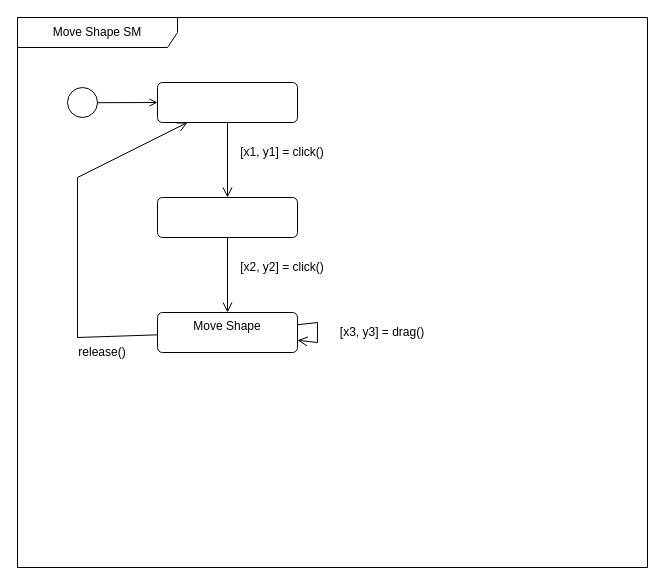
This 665x585 diagram has some shape labels left out. The shapes that lost their labels are listed below. From the top down, each one's centre as x and y in pixels, then its label:
At point 227,102: "Ready".
At point 227,217: "Shape Selected".
